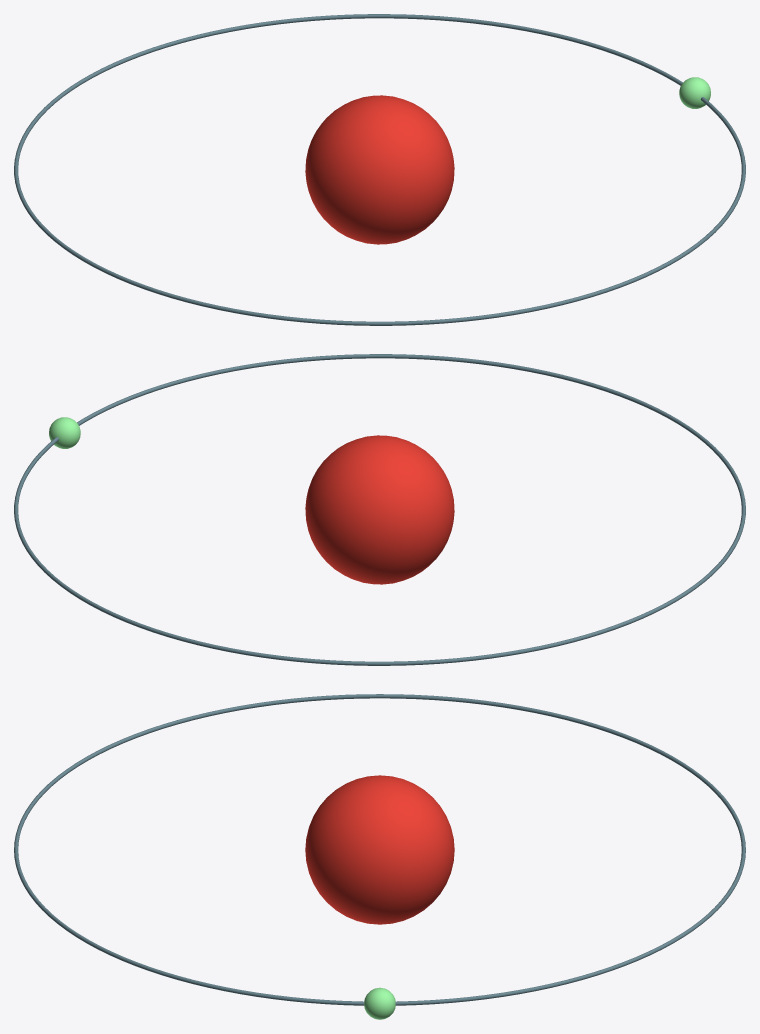
The model's file is hydrogen.glb.
3 views of the same model, one above another, from view 1: azimuth 30°, elevation 25°; view 2: azimuth 150°, elevation 25°; view 3: azimuth 270°, elevation 25° (orthographic).
Parts seen in each view (by area): view 1: element_001_hydrogen; view 2: element_001_hydrogen; view 3: element_001_hydrogen.
Part boxes in pixels (x1=…): element_001_hydrogen: x1=14, y1=14, x2=745, y2=325; element_001_hydrogen: x1=14, y1=354, x2=745, y2=665; element_001_hydrogen: x1=14, y1=694, x2=745, y2=1019.
Size of the model in its own units: 11.76 by 2.36 by 11.54.
